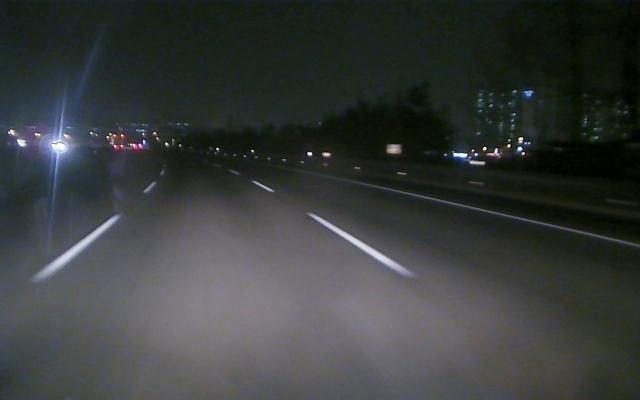lane: (357, 181, 637, 249), (256, 181, 421, 278), (27, 182, 155, 282)
